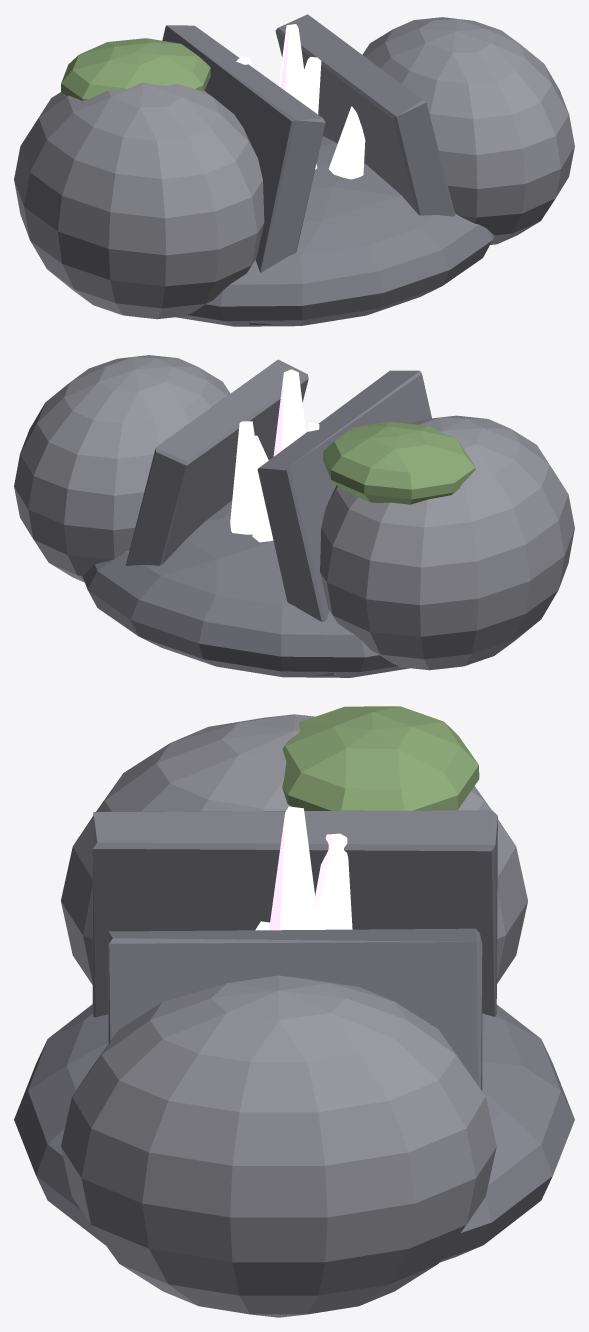
The model's file is cave_geode.glb.
3 renders of one model, top to bottom at view 1: azimuth 30°, elevation 25°; view 2: azimuth 150°, elevation 25°; view 3: azimuth 270°, elevation 25°, orthographic. The views are drawn at different scales.
Parts seen in each view (by area): view 1: cave_geode; view 2: cave_geode; view 3: cave_geode.
Part boxes in pixels (x1,y1,x2,y2): cave_geode: [14, 14, 574, 326]; cave_geode: [14, 355, 574, 677]; cave_geode: [14, 706, 574, 1317].
Bounding box in the file's own units: 1.15 × 0.5661 × 0.717.
